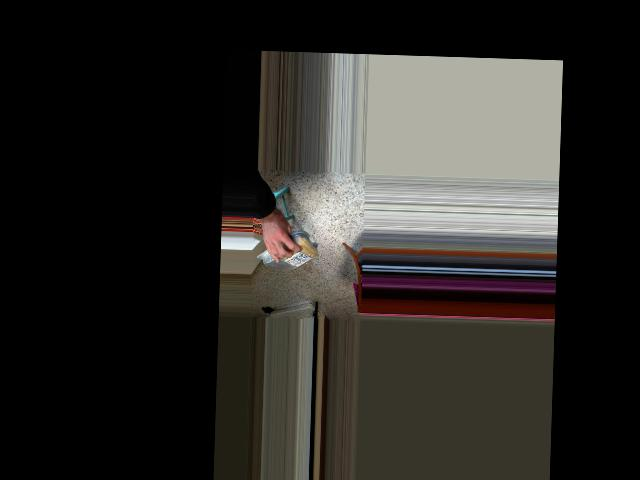cheese: (260, 238, 323, 268)
